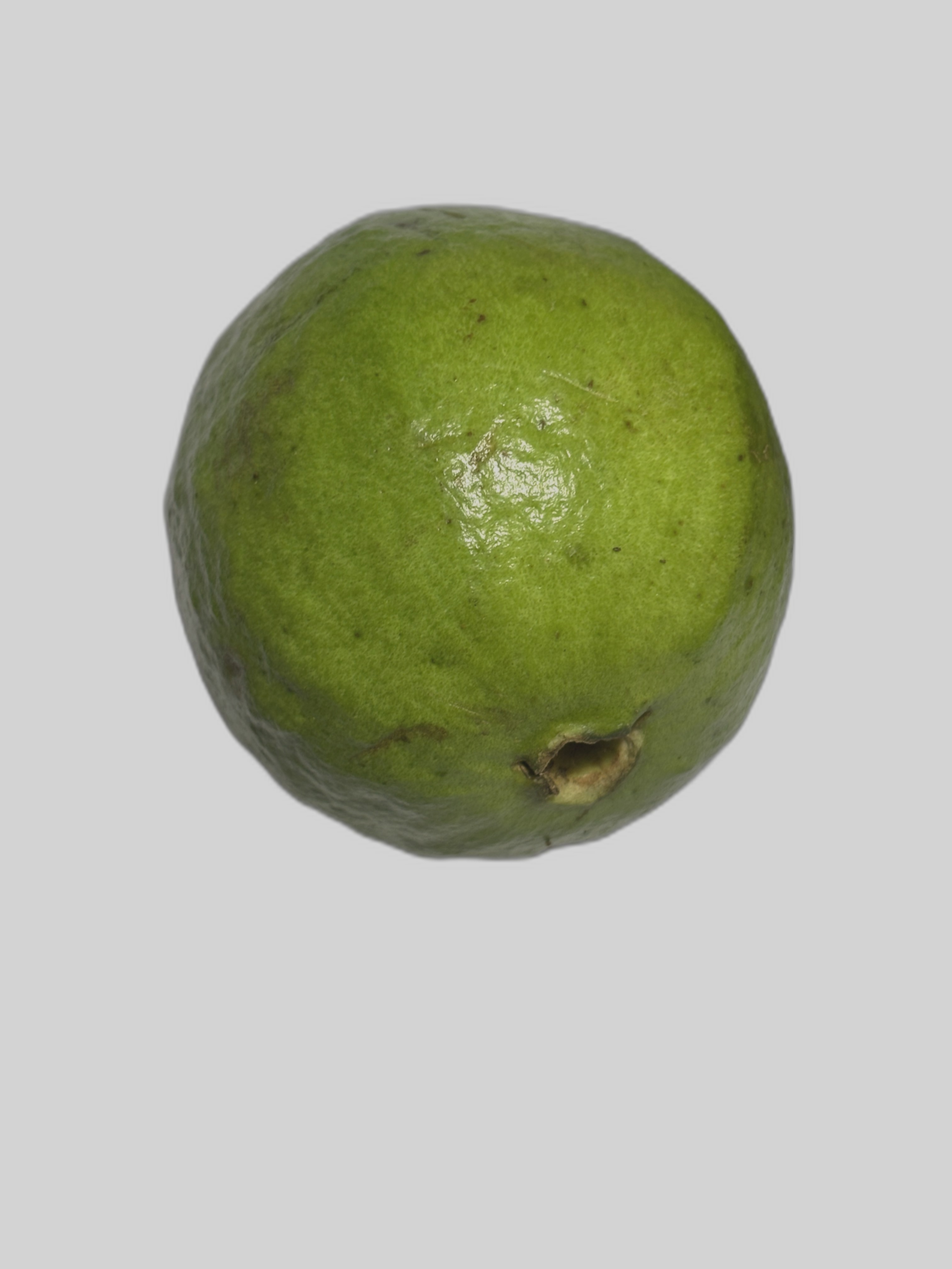guava: (250, 95, 824, 1158)
